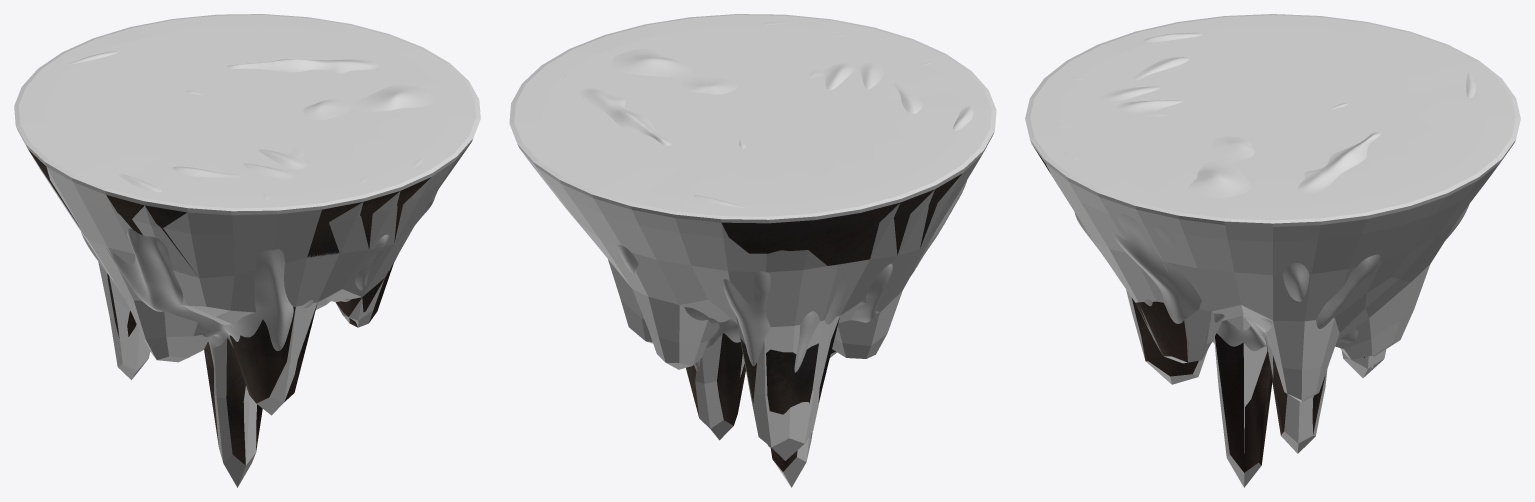
The model's file is pisoDeNiveles.fbx.
The picture shows the model from 3 angles, left to right: view 1: azimuth 30°, elevation 25°; view 2: azimuth 150°, elevation 25°; view 3: azimuth 270°, elevation 25°; orthographic projection. The views are drawn at different scales.
Parts seen in each view (by area): view 1: MSH_Cylinder, MSH_Piso_HPBackup, MSH_Piso_HP, MSH_Piso_LP, MSH_Piso_blocking; view 2: MSH_Cylinder, MSH_Piso_HPBackup, MSH_Piso_blocking, MSH_Piso_LP, MSH_Piso_HP; view 3: MSH_Cylinder, MSH_Piso_HPBackup, MSH_Piso_HP, MSH_Piso_LP, MSH_Piso_blocking.
Part boxes in pixels (box(x1,y1,x2,y2)): MSH_Cylinder: box(14, 14, 480, 211); MSH_Piso_HPBackup: box(16, 126, 472, 487); MSH_Piso_HP: box(69, 51, 438, 367); MSH_Piso_LP: box(28, 149, 431, 465); MSH_Piso_blocking: box(98, 262, 149, 379); MSH_Cylinder: box(509, 14, 996, 237); MSH_Piso_HPBackup: box(534, 132, 994, 487); MSH_Piso_blocking: box(680, 233, 837, 460); MSH_Piso_LP: box(686, 173, 962, 471); MSH_Piso_HP: box(579, 22, 973, 447); MSH_Cylinder: box(1025, 14, 1520, 241); MSH_Piso_HPBackup: box(1030, 140, 1485, 487); MSH_Piso_HP: box(1056, 32, 1475, 376); MSH_Piso_LP: box(1033, 146, 1364, 472); MSH_Piso_blocking: box(1341, 349, 1386, 377).
Size of the model in its own units: 1919 by 1662 by 1919.
